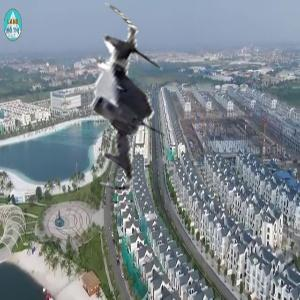drone: (37, 16, 213, 192)
